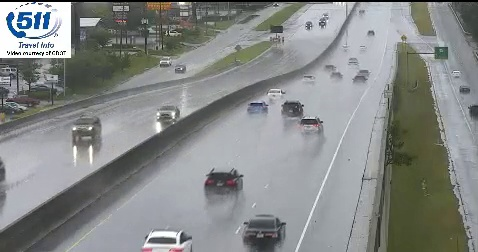car: (242, 215, 285, 246), (142, 229, 193, 252), (205, 168, 243, 198), (298, 117, 323, 136), (281, 100, 303, 117), (246, 101, 268, 116), (267, 88, 283, 101)
